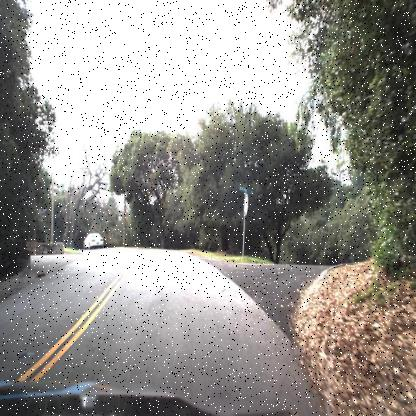car: (82, 228, 105, 255)
